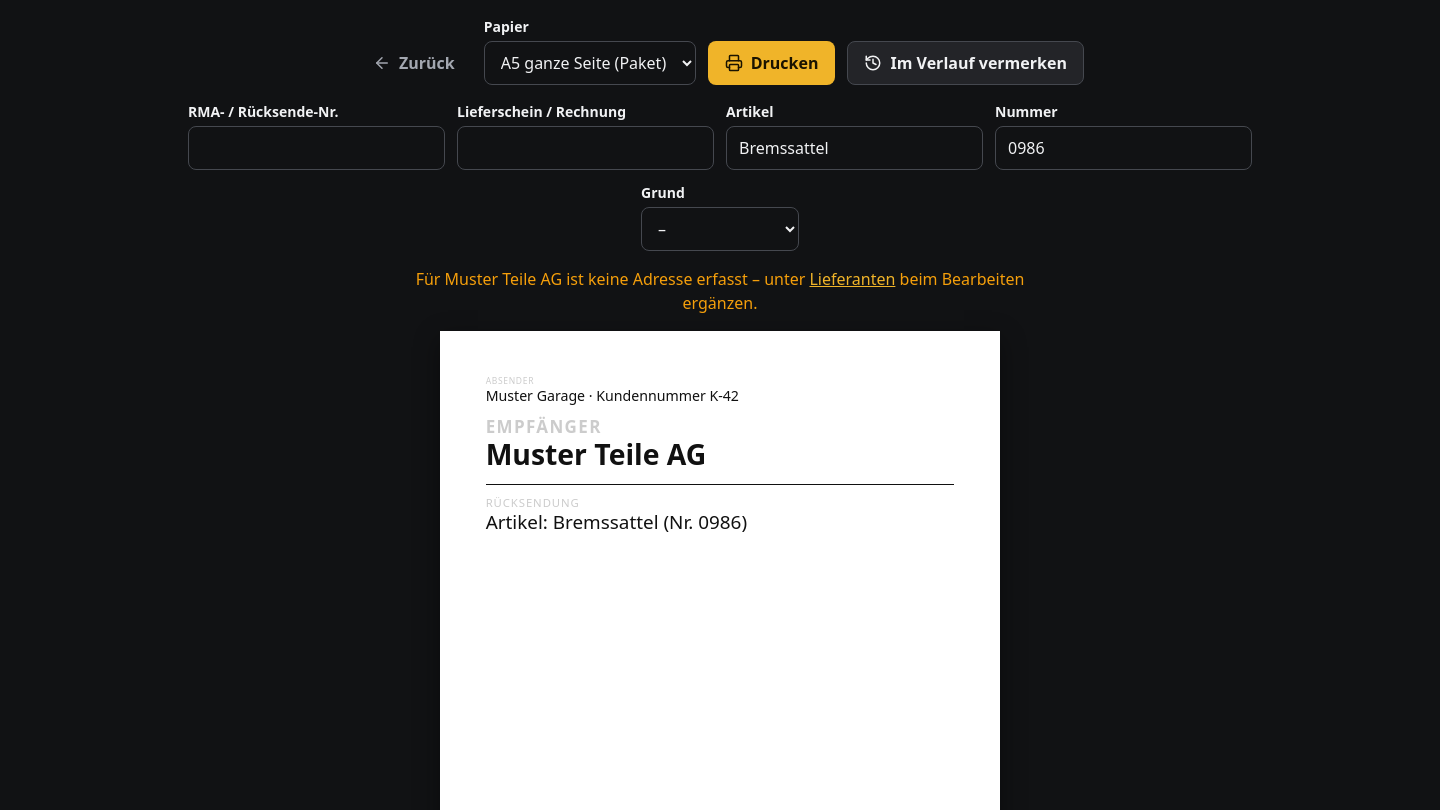
Scenario: ReturnLabelPage (FB-31) › notes the return in the history of the position (FB-31) – once
Select "defekt" in the dropdown labelled "Grund": (720, 229) [641,207,799,251]
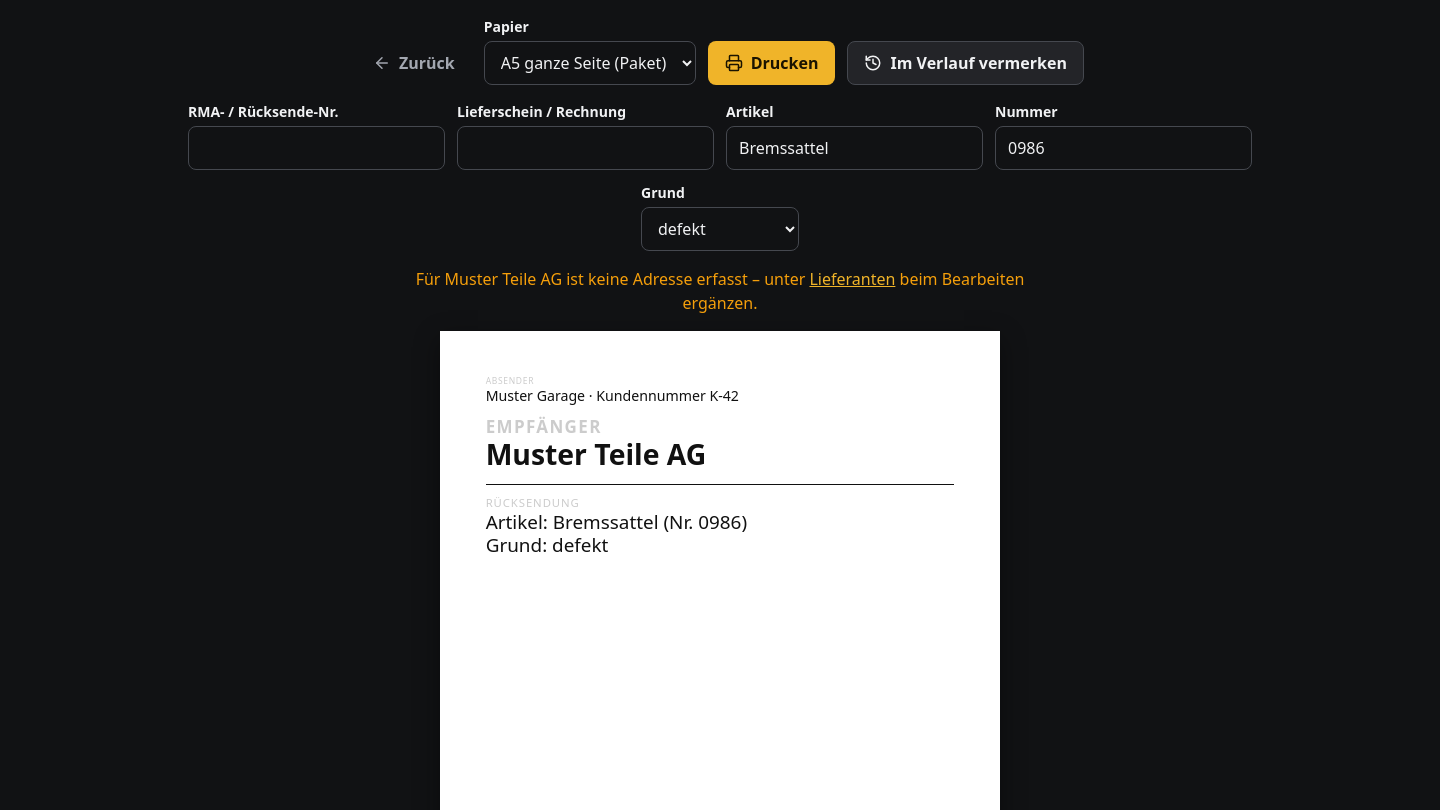
Click the button "Im Verlauf vermerken": click(966, 63) [848,41,1084,85]
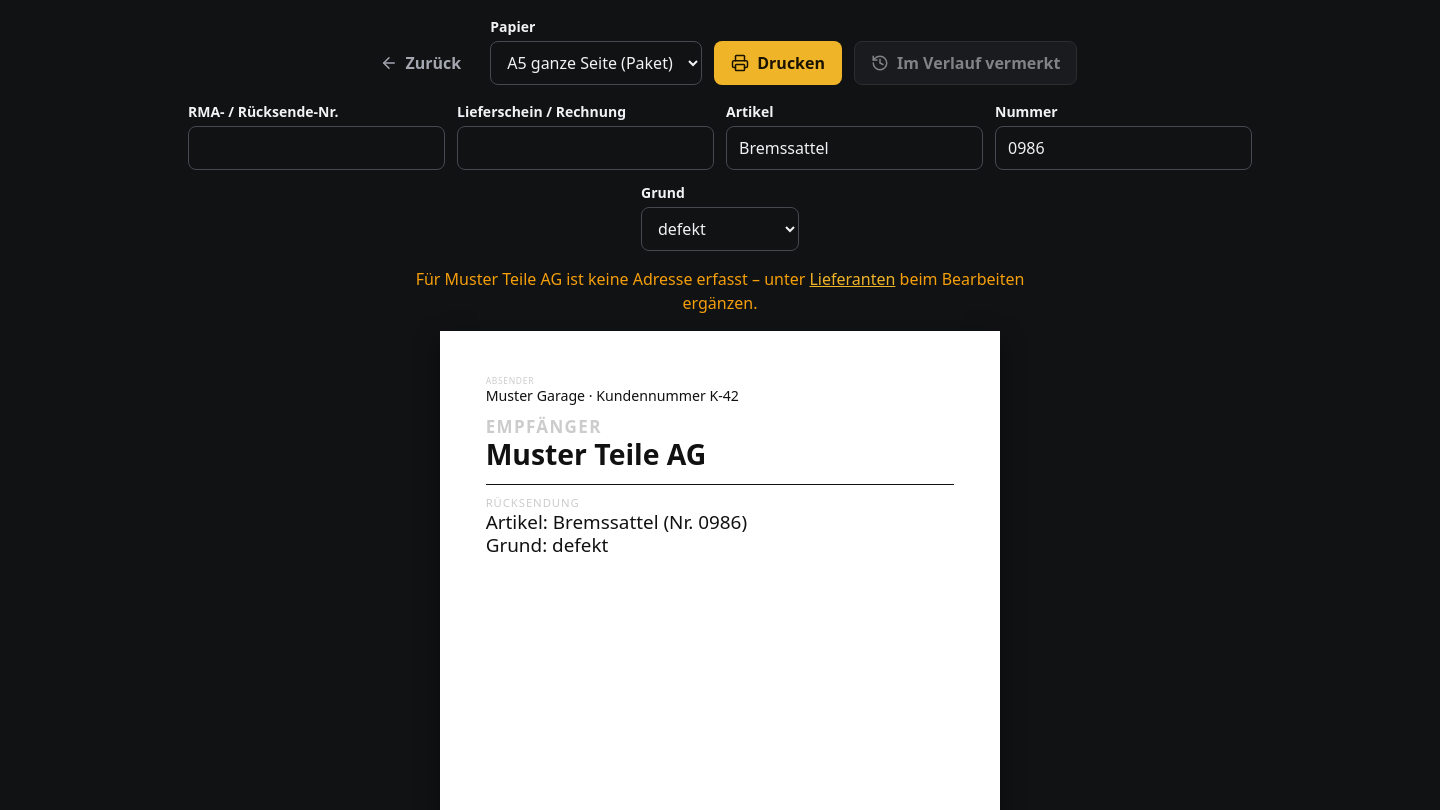
Result: the button "Im Verlauf vermerkt" is disabled at [854,41,1077,85]
